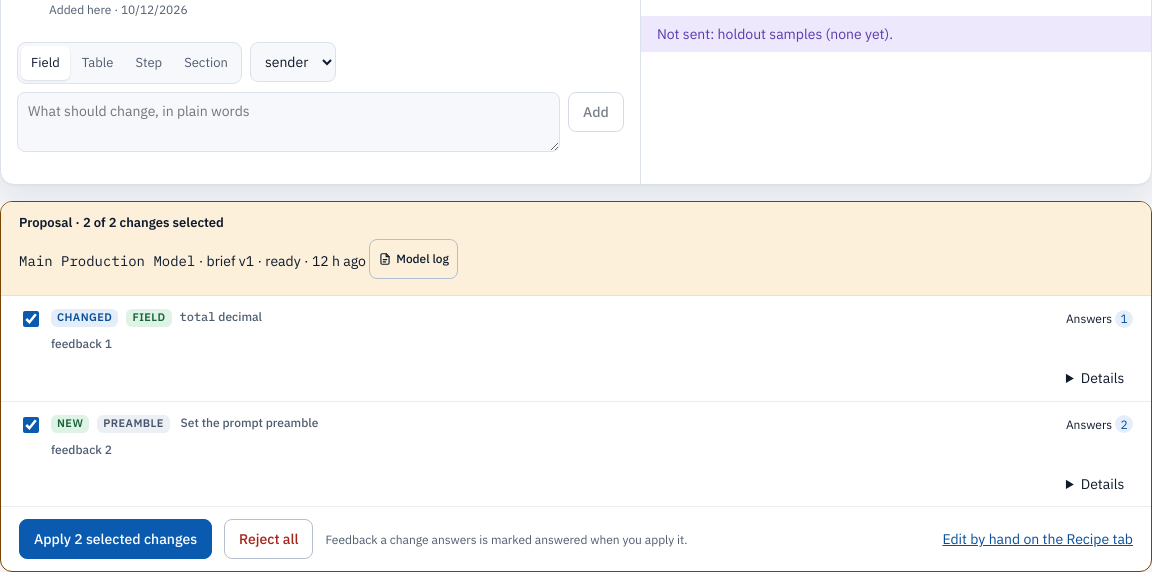
Scenario: ReviseTab › badges each change with the feedback it answers, then marks it ANSWERED after Apply
(page scrolled)
Expected: the list item "CHANGED FIELD total decimal feedback 1 Answers 1 Details" is shown, [1, 296, 1151, 402]
Expected: the list item that starts with "NEW" shows "Answers 2", [1, 402, 1151, 507]
Click the button "Apply 2 selected changes" at [116, 539], box [19, 519, 212, 559]
(page scrolled)
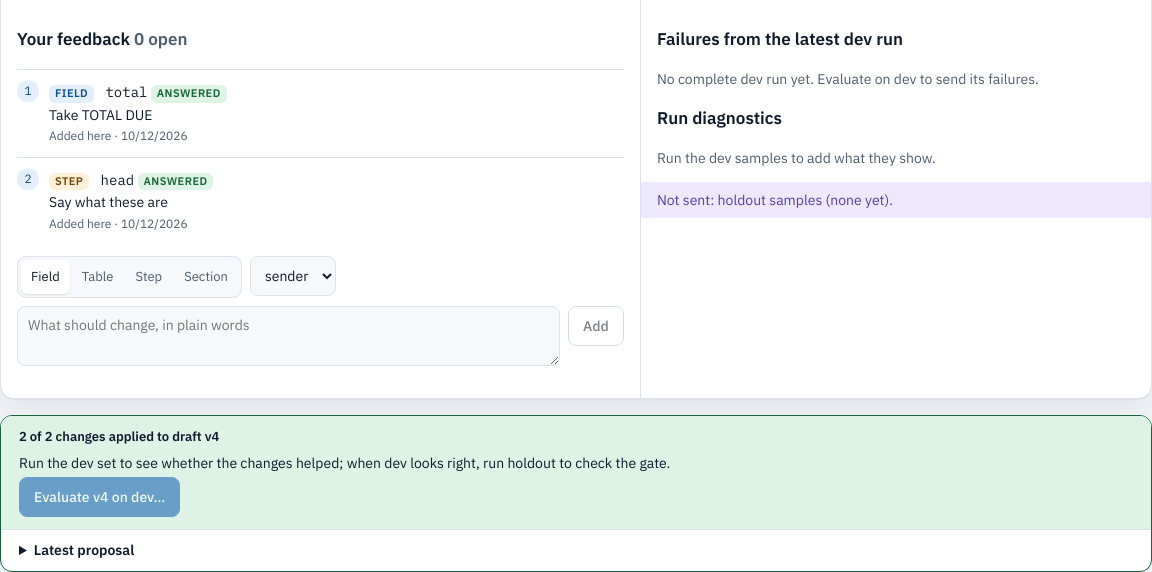
Result: the text "ANSWERED" is shown 2 times at [151, 85, 227, 103]; [138, 172, 213, 190]
